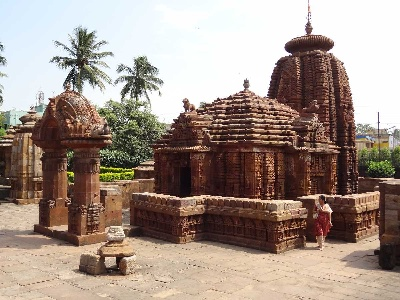amalaka: (275, 25, 344, 54)
gopuram: (260, 51, 372, 165)
torana: (29, 81, 109, 231)
